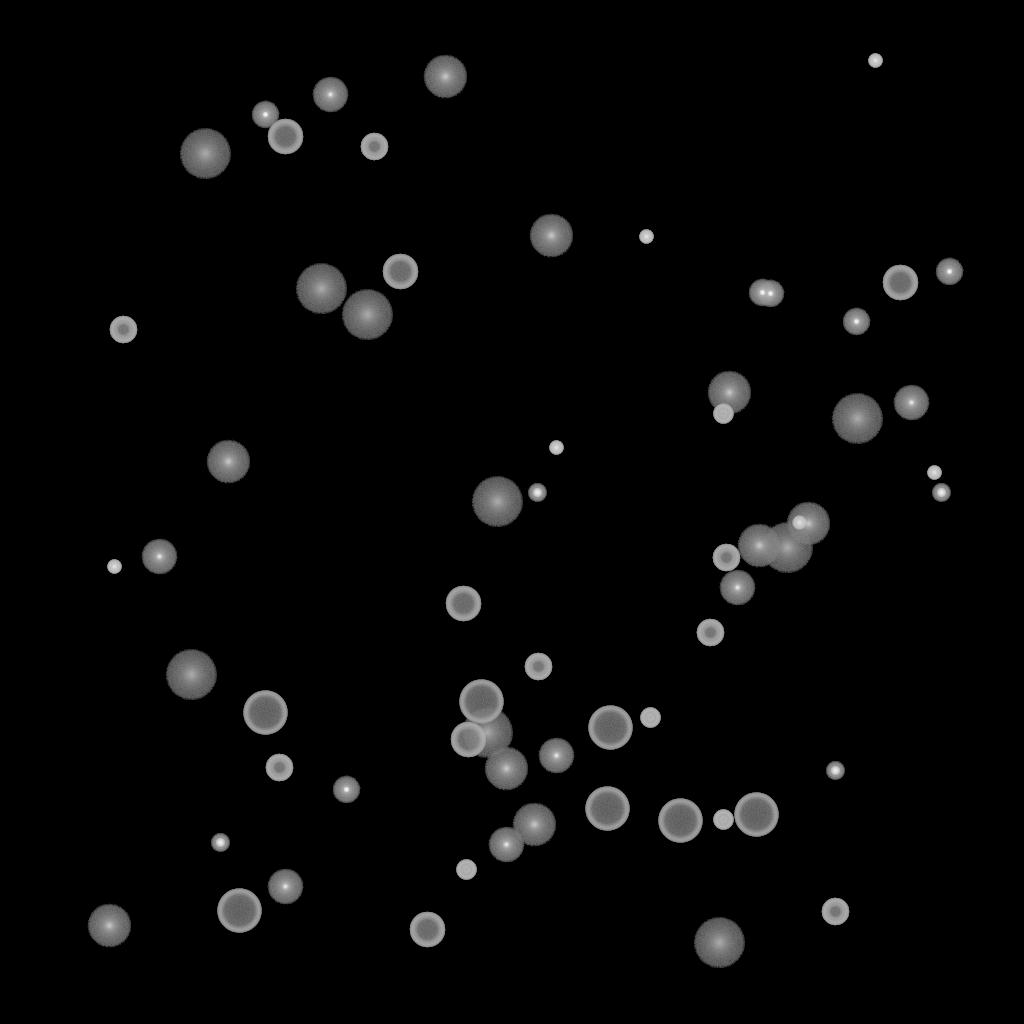depth:-10: (756, 280, 784, 308), (935, 258, 963, 286), (842, 308, 870, 336), (251, 101, 279, 129), (748, 279, 776, 307), (332, 776, 360, 804)
depth:-20: (826, 762, 844, 780), (932, 484, 950, 502), (211, 834, 229, 852), (528, 484, 546, 502)
depth:-30: (639, 230, 653, 244), (792, 516, 806, 530), (927, 466, 941, 480), (868, 54, 882, 68), (107, 560, 121, 574), (549, 441, 563, 455)
depth:-40: (713, 404, 733, 424), (713, 810, 733, 830), (456, 860, 476, 880), (640, 708, 660, 728)
depth:-50: (696, 619, 724, 647), (265, 754, 293, 782), (712, 544, 740, 572), (360, 133, 388, 161), (821, 898, 849, 926), (109, 316, 137, 344), (524, 653, 552, 681)
depth:-60: (409, 912, 445, 948), (382, 254, 418, 290), (267, 119, 303, 155), (450, 722, 486, 758), (882, 265, 918, 301), (445, 586, 481, 622)
depth:-70: (585, 787, 629, 831), (459, 680, 503, 724), (658, 799, 702, 843), (734, 793, 778, 837), (588, 706, 632, 750), (217, 889, 261, 933), (243, 691, 287, 735)
depth:0: (538, 738, 574, 774), (893, 385, 929, 421), (719, 570, 755, 606), (141, 539, 177, 575), (488, 827, 524, 863), (312, 77, 348, 113), (267, 869, 303, 905)
depth:10: (206, 440, 250, 484), (87, 904, 131, 948), (423, 55, 467, 99), (786, 502, 830, 546), (484, 747, 528, 791), (737, 524, 781, 568), (529, 214, 573, 258), (707, 371, 751, 415), (512, 803, 556, 847)
depth:20: (341, 290, 393, 340), (179, 129, 231, 179), (471, 477, 523, 527), (461, 708, 513, 758), (295, 264, 347, 314), (165, 650, 217, 700), (831, 394, 883, 444), (693, 918, 745, 968), (761, 523, 813, 573)
